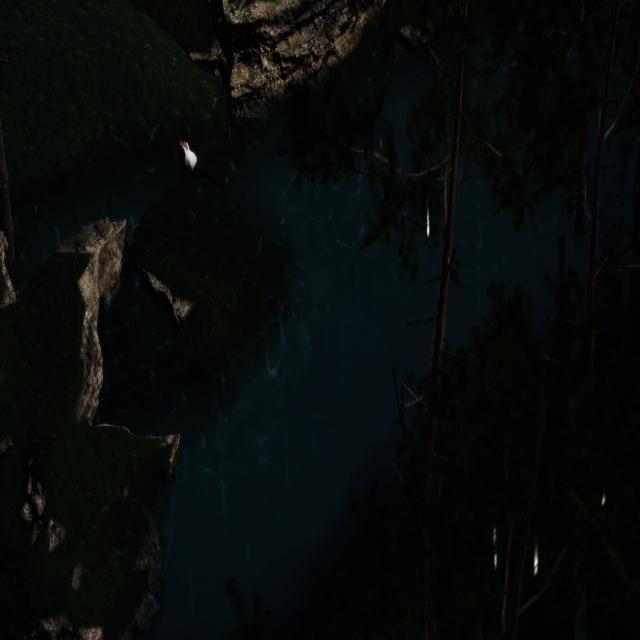Human: (173, 124, 240, 198)
